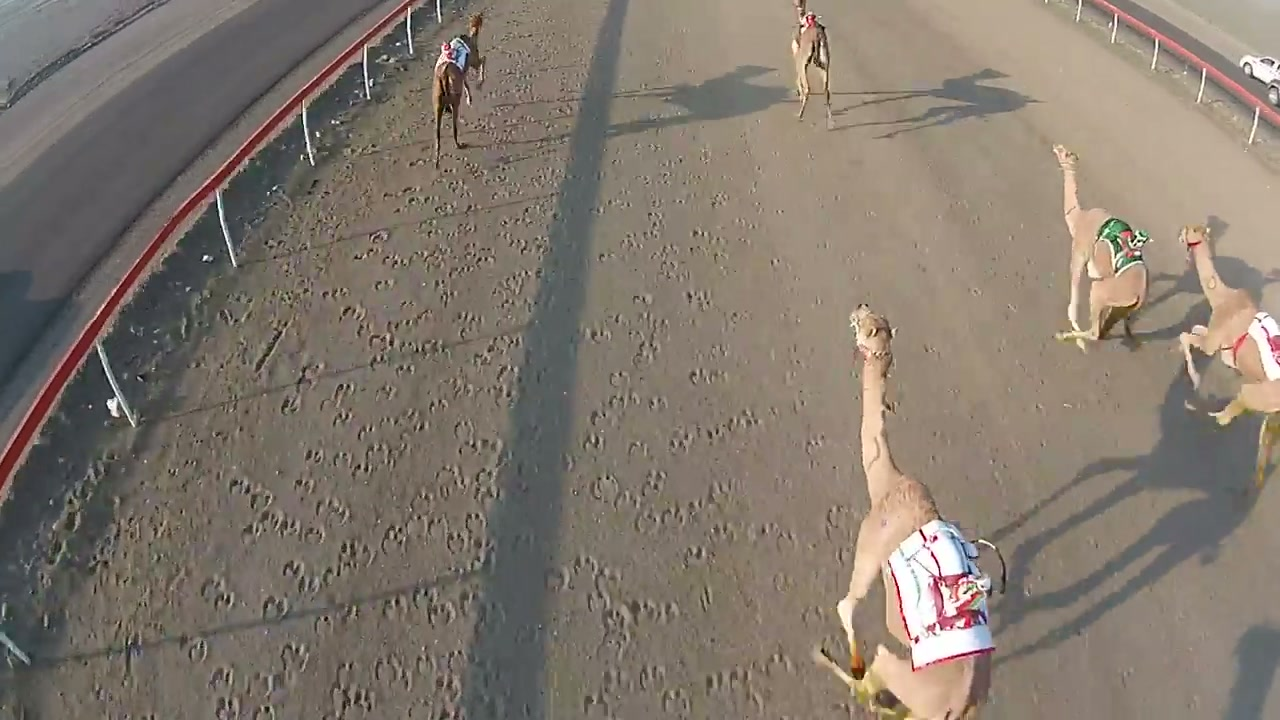animal_footprint: (175, 135, 539, 719), (548, 95, 851, 680)
